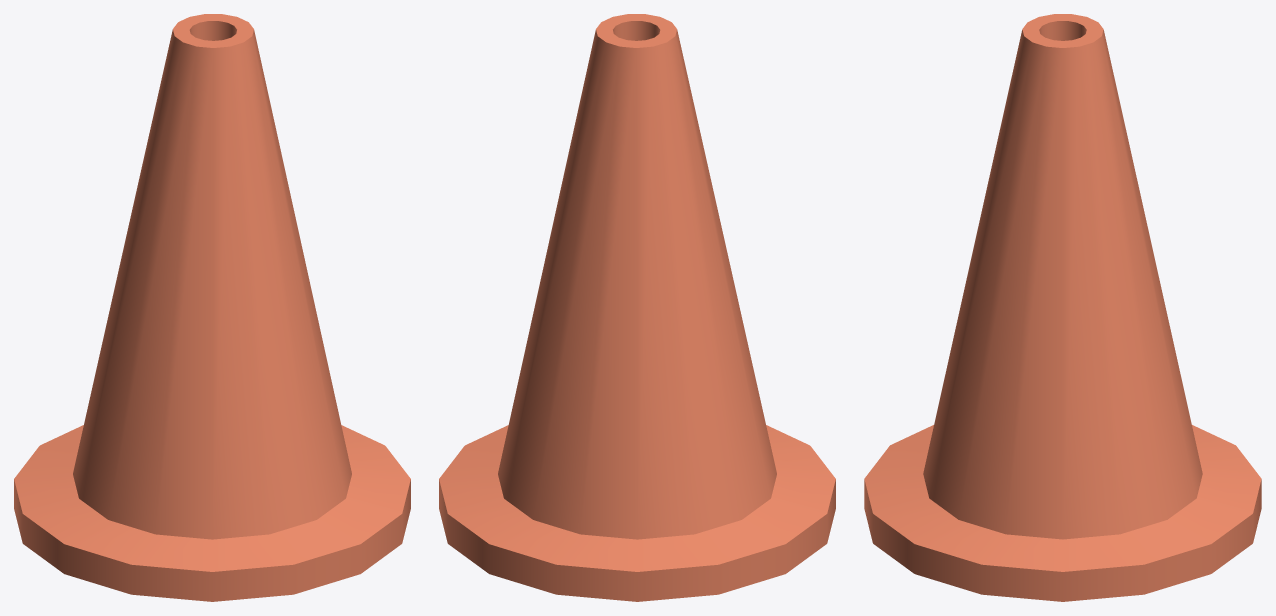
The model's file is Conus.fbx.
3 views of the same model, side by side, from view 1: azimuth 30°, elevation 25°; view 2: azimuth 150°, elevation 25°; view 3: azimuth 270°, elevation 25° (orthographic).
Parts seen in each view (by area): view 1: pasted__pCylinder1; view 2: pasted__pCylinder1; view 3: pasted__pCylinder1.
Boxes of the visible parts, x1,y1,x2,y2 form: pasted__pCylinder1: (14,14,410,601); pasted__pCylinder1: (439,14,835,601); pasted__pCylinder1: (864,14,1261,601).
Bounding box in the file's own units: 6.8 × 9.25 × 6.84.
